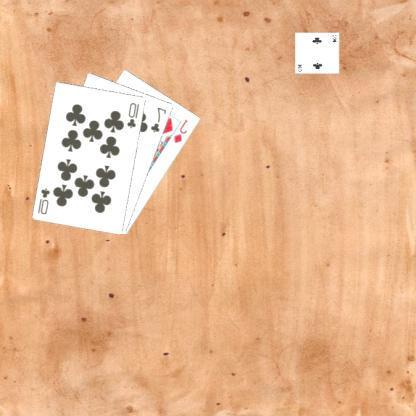10C: (37, 186, 53, 216), (127, 100, 142, 130)
7C: (150, 104, 170, 134)
JD: (173, 116, 191, 144)
